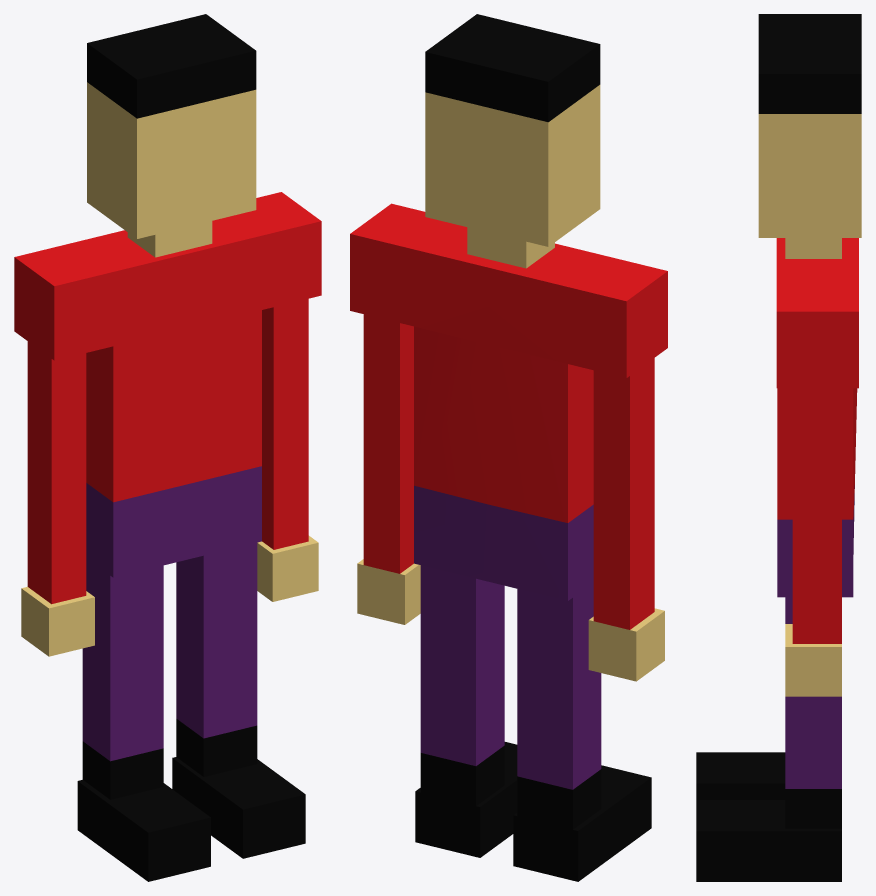
File: man_red.FBX
3 renders of one model, left to right at view 1: azimuth 30°, elevation 25°; view 2: azimuth 150°, elevation 25°; view 3: azimuth 270°, elevation 25°, orthographic. The views are drawn at different scales.
Visible parts, largest first — view 1: Box13; view 2: Box13; view 3: Box13.
Boxes of the visible parts, x1,y1,x2,y2 form: Box13: [14, 14, 321, 881]; Box13: [350, 14, 667, 881]; Box13: [696, 14, 861, 881].
Size of the model in its own units: 25.52 by 70.09 by 13.18.
